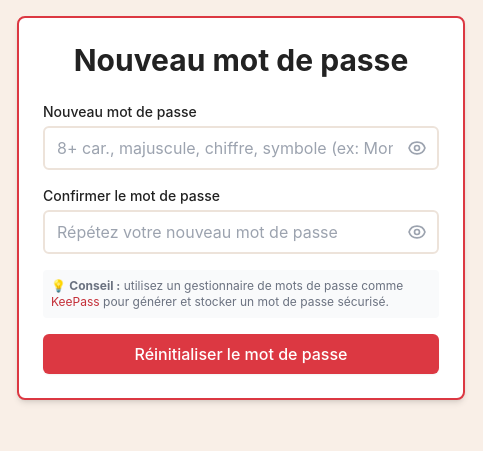
Test: ResetPasswordPage (intégration) › affiche la barre de force du mot de passe lors de la saisie
Type "StrongP@ss1!" into the password field labelled "Nouveau mot de passe" at (241, 148), box x1=43 y1=126 x2=439 y2=170
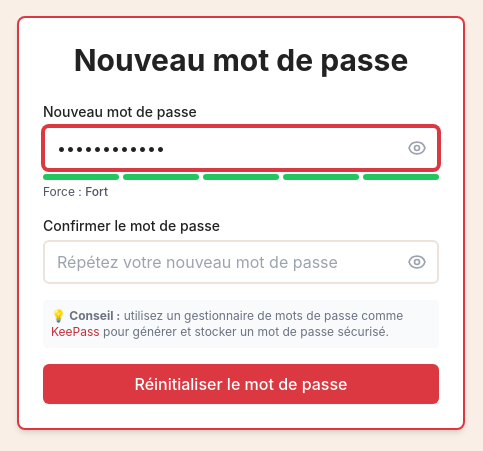
Result: the text "Force : Fort" is shown at x1=43 y1=184 x2=108 y2=199
